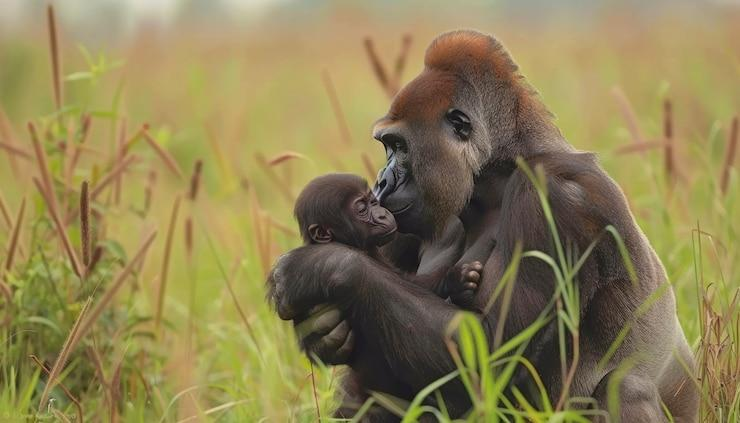gorille_Autres: (271, 17, 690, 423)
